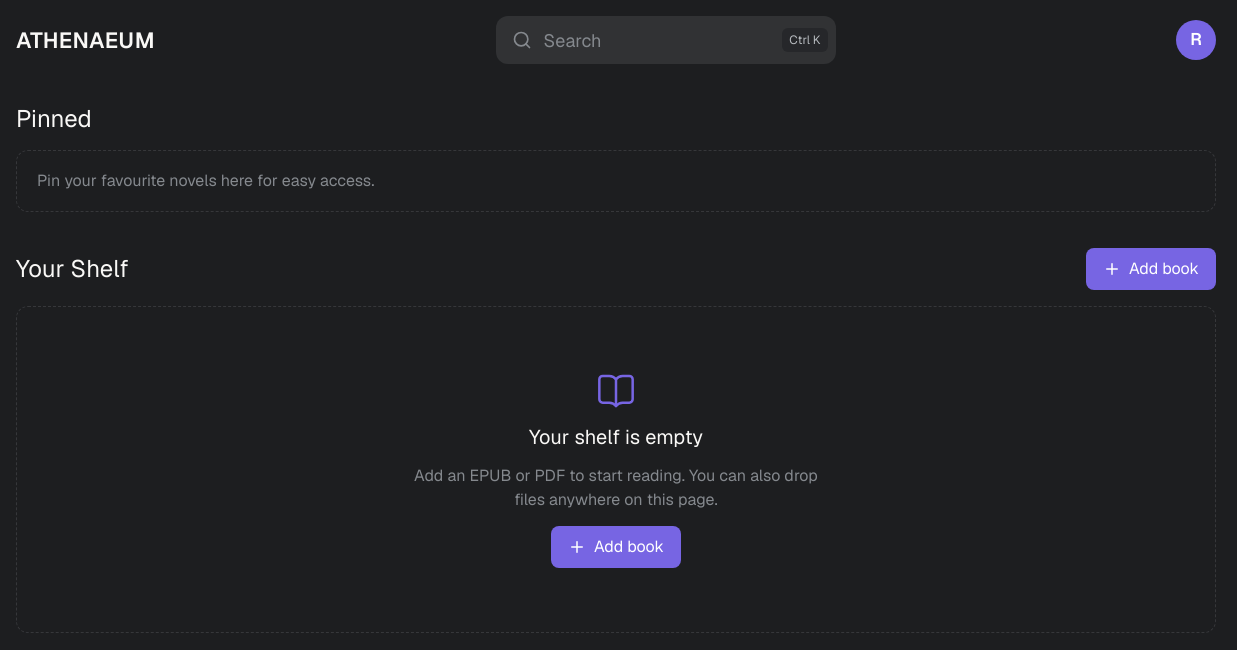
Test: sign out › closes the account menu with Escape
Click the button named "Account menu" at coordinates (1196, 40), box [1176,20,1216,60]
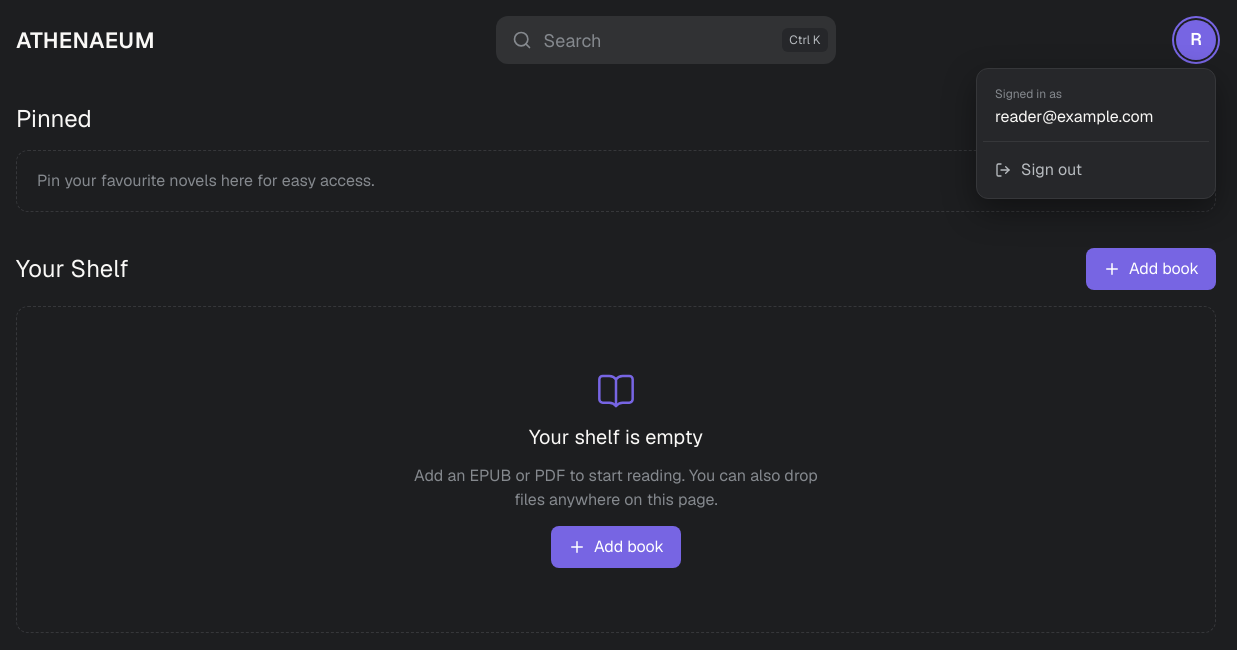
Expected: the menu is shown, [976,68,1216,199]
Press Escape
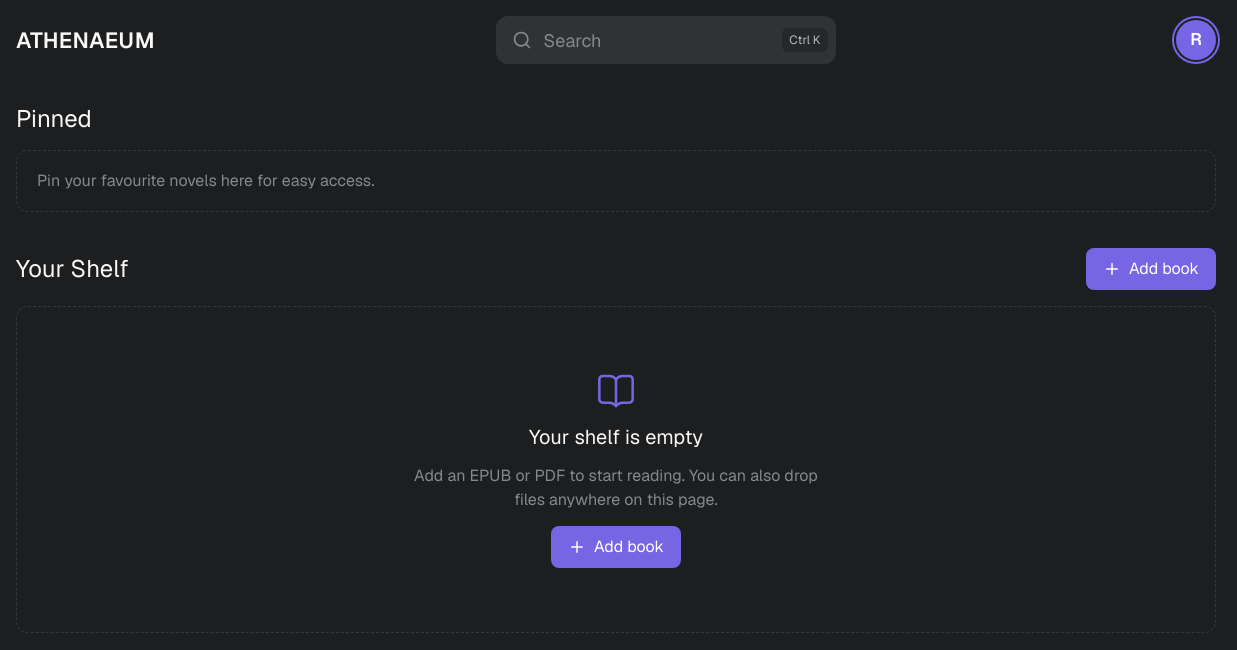
Expected: the menu is gone
